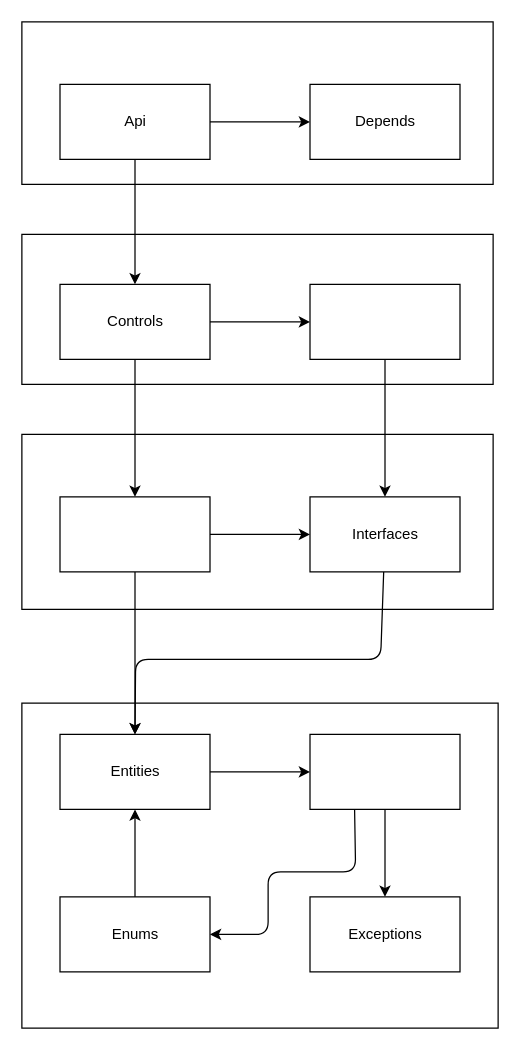
Image size: 520x1050. Some labels were removed from this diagram. The centre of each missing label's shape, as x and y in pixels:
"implementation / Adapters" goes at [384,321].
"use_cases" goes at [134,534].
"Validations" goes at [384,771].
